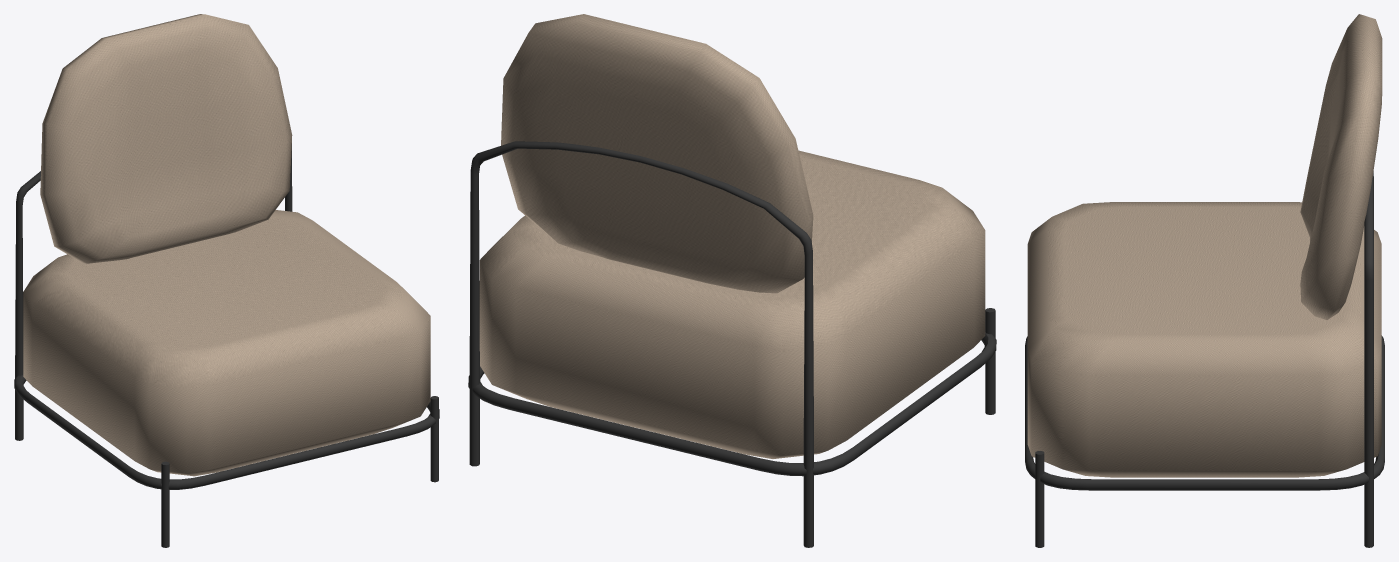
The model's file is LC_3008_chair_D_LOD2.FBX.
3 renders of one model, left to right at view 1: azimuth 30°, elevation 25°; view 2: azimuth 150°, elevation 25°; view 3: azimuth 270°, elevation 25°, orthographic. The views are drawn at different scales.
Parts seen in each view (by area): view 1: LC_3008_chair_D_LOD2; view 2: LC_3008_chair_D_LOD2; view 3: LC_3008_chair_D_LOD2.
Part boxes in pixels (x1,y1,x2,y2): LC_3008_chair_D_LOD2: (14, 14, 439, 547); LC_3008_chair_D_LOD2: (468, 14, 996, 547); LC_3008_chair_D_LOD2: (1025, 14, 1384, 547).
Bounding box in the file's own units: 60.93 × 73.72 × 55.95.
Materials: 1 (1 with a texture image).
